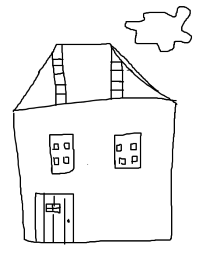closed_window: (48, 132, 74, 175), (114, 131, 141, 169)
clouds: (124, 6, 193, 53)
door: (27, 187, 81, 247)
roof: (13, 43, 176, 111)
wall: (10, 100, 175, 243)
